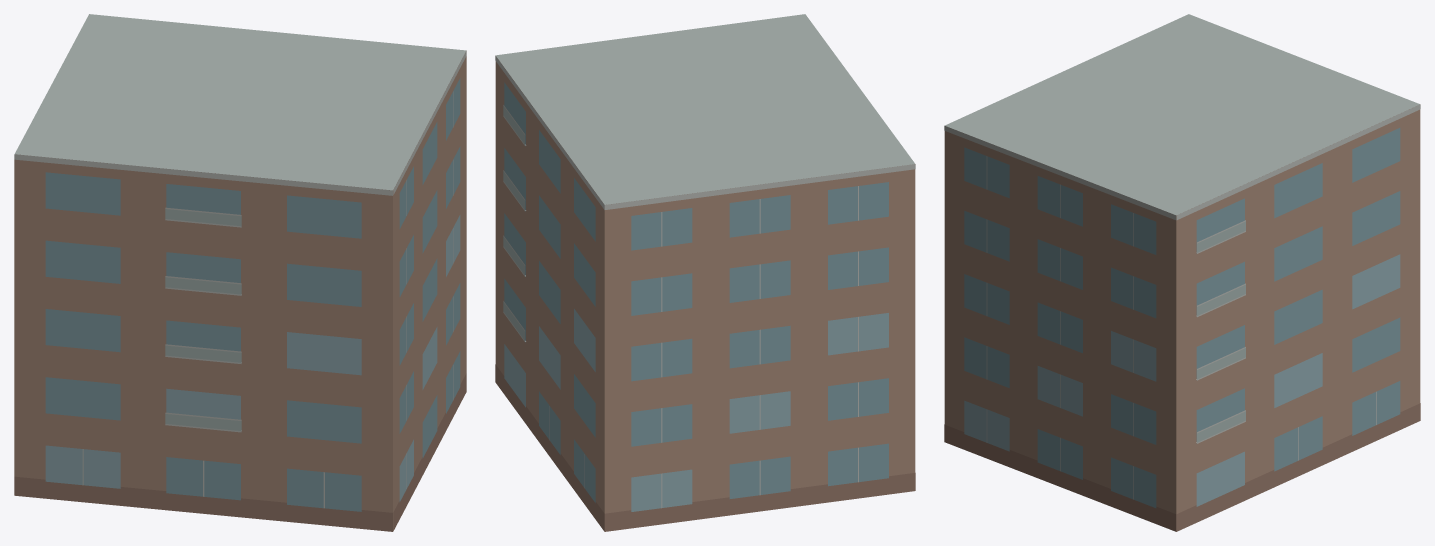
Rendered from survey-upis-32553687.glb.
The picture shows the model from 3 angles, left to right: view 1: azimuth 30°, elevation 25°; view 2: azimuth 150°, elevation 25°; view 3: azimuth 270°, elevation 25°; orthographic projection. The views are drawn at different scales.
Parts seen in each view (by area): view 1: survey-upis-32553687.tmp; view 2: survey-upis-32553687.tmp; view 3: survey-upis-32553687.tmp.
Part boxes in pixels (x1,y1,x2,y2): survey-upis-32553687.tmp: (14, 14, 466, 531); survey-upis-32553687.tmp: (495, 14, 915, 531); survey-upis-32553687.tmp: (944, 14, 1420, 531).
Size of the model in its own units: 20.82 by 15.25 by 20.79.
